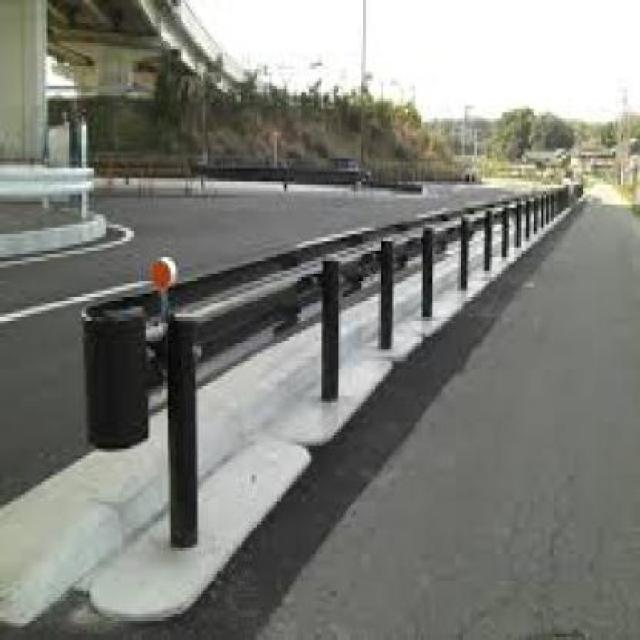Guard rail: (77, 176, 575, 569)
